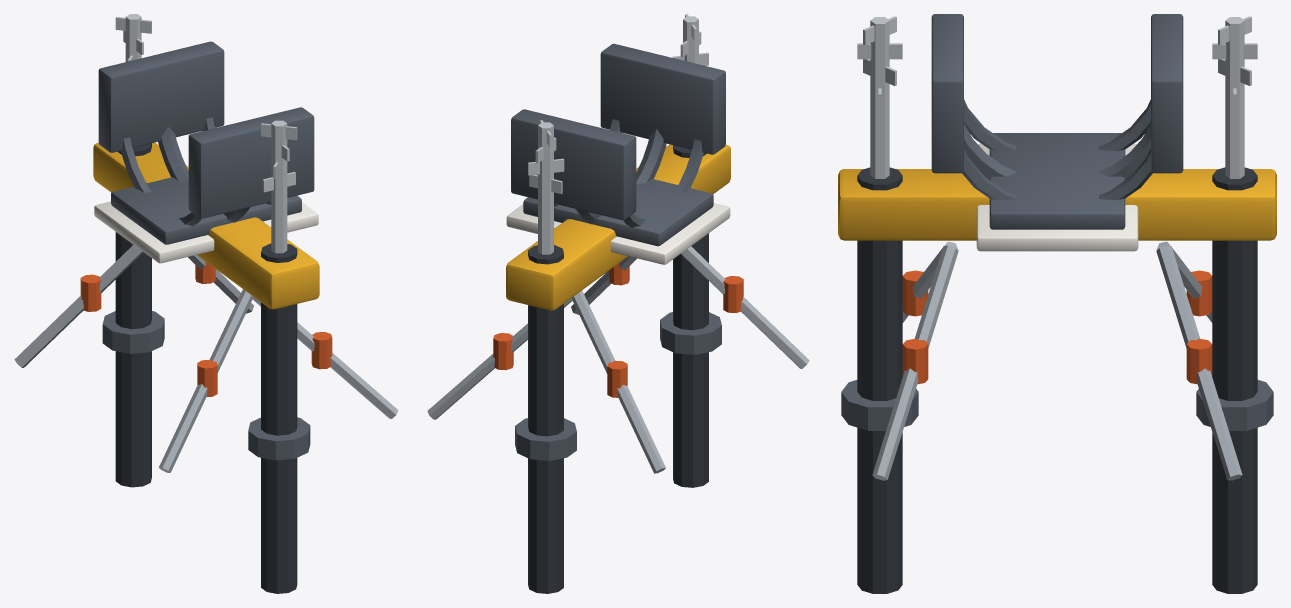
File: pipe_support.glb
The picture shows the model from 3 angles, left to right: view 1: azimuth 30°, elevation 25°; view 2: azimuth 150°, elevation 25°; view 3: azimuth 270°, elevation 25°; orthographic projection. The views are drawn at different scales.
Visible parts, largest first — view 1: pipe_support; view 2: pipe_support; view 3: pipe_support.
Boxes of the visible parts, x1,y1,x2,y2 form: pipe_support: [14, 14, 398, 593]; pipe_support: [427, 14, 809, 593]; pipe_support: [838, 14, 1276, 593].
Bounding box in the file's own units: 1.04 × 1.93 × 1.36.
